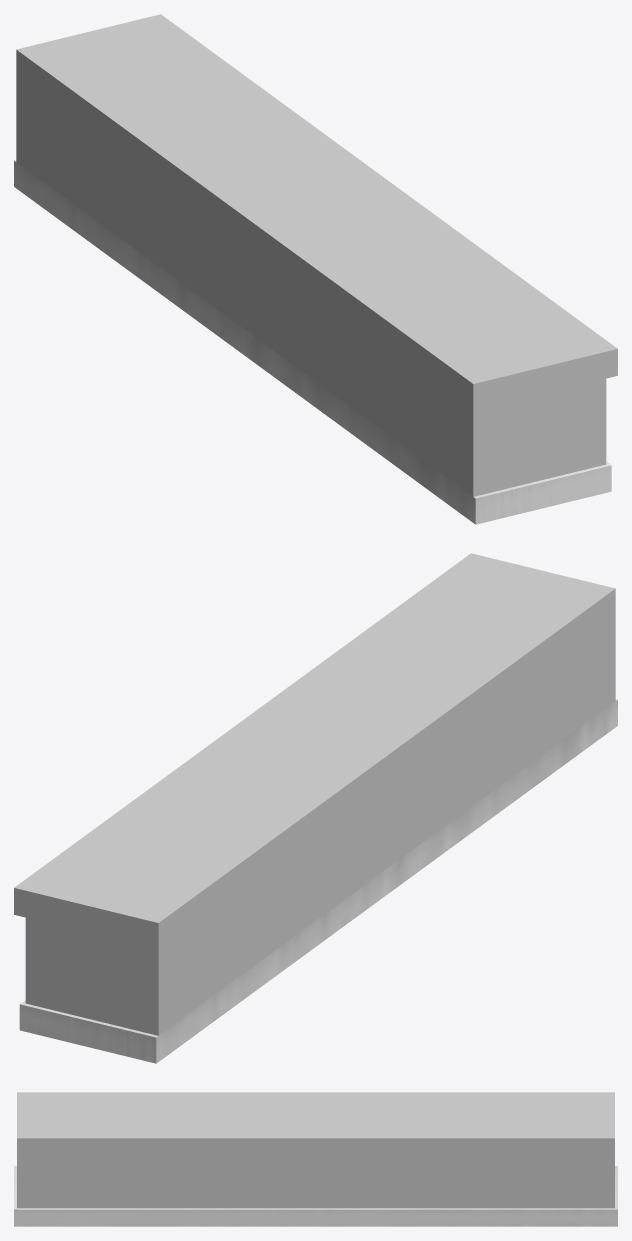
The model's file is balie.glb.
The picture shows the model from 3 angles, top to bottom: view 1: azimuth 30°, elevation 25°; view 2: azimuth 150°, elevation 25°; view 3: azimuth 270°, elevation 25°; orthographic projection. The views are drawn at different scales.
Visible parts, largest first — view 1: Cube; view 2: Cube; view 3: Cube.
Part boxes in pixels (x1,y1,x2,y2): Cube: (14, 14, 617, 524); Cube: (14, 553, 617, 1063); Cube: (14, 1092, 617, 1226).
Size of the model in its own units: 2.18 by 2 by 12.04.
Materials: 2 (1 with a texture image).
